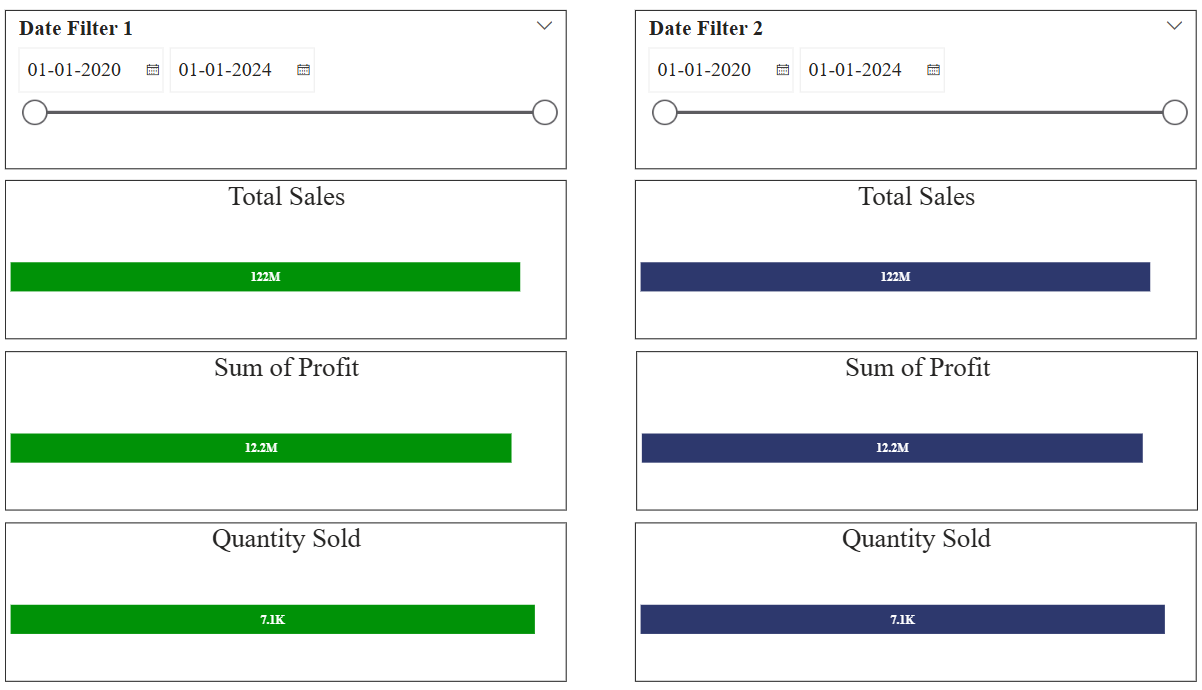

The page's visual inventory and layout, read from the dashboard file:
{"tool":"powerbi","page":{"name":"Comparision 2","canvas":[1280,720],"ordinal":3},"visuals":[{"type":"slicer","fields":{"Values":["Facts Table.Date"]},"box":[9.8,9.8,561.3,159],"z":0},{"type":"barChart","fields":{"Y":["Sum(Facts Table.Net Sales)"]},"box":[9.8,179.8,561.3,159],"z":1000},{"type":"barChart","fields":{"Y":["Sum(Facts Table.Profit)"]},"box":[9.8,351,561.3,159],"z":2000},{"type":"barChart","fields":{"Y":["Sum(Facts Table.Units Sold)"]},"box":[9.8,522.1,561.3,159],"z":3000},{"type":"slicer","fields":{"Values":["Facts Table.Date"]},"box":[639.5,9.8,561.3,159],"z":4000},{"type":"barChart","fields":{"Y":["Sum(Facts Table.Net Sales)"]},"box":[639.5,179.8,561.3,159],"z":5000},{"type":"barChart","fields":{"Y":["Sum(Facts Table.Profit)"]},"box":[640.8,351,561.3,159],"z":6000},{"type":"barChart","fields":{"Y":["Sum(Facts Table.Units Sold)"]},"box":[639.5,522.1,561.3,159],"z":7000}]}

Visuals, with their boxes in screenshot pixels (x1, y1, x2, y2), scaled from the page's 1280x720 canvas onto the 1202x690 screenshot:
slicer - Facts Table.Date: Rect(9, 9, 536, 162)
barChart - Sum(Facts Table.Net Sales): Rect(9, 172, 536, 325)
barChart - Sum(Facts Table.Profit): Rect(9, 336, 536, 489)
barChart - Sum(Facts Table.Units Sold): Rect(9, 500, 536, 653)
slicer - Facts Table.Date: Rect(601, 9, 1128, 162)
barChart - Sum(Facts Table.Net Sales): Rect(601, 172, 1128, 325)
barChart - Sum(Facts Table.Profit): Rect(602, 336, 1129, 489)
barChart - Sum(Facts Table.Units Sold): Rect(601, 500, 1128, 653)
